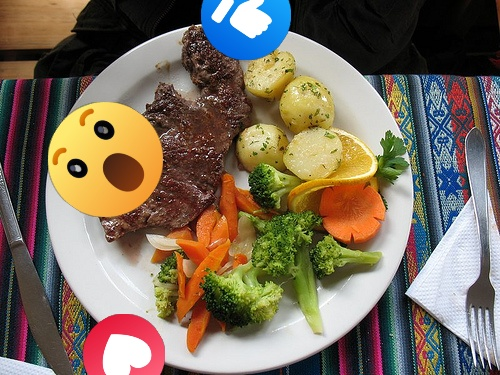like: (201, 0, 291, 60)
love: (83, 314, 165, 375)
wow: (48, 102, 163, 217)
